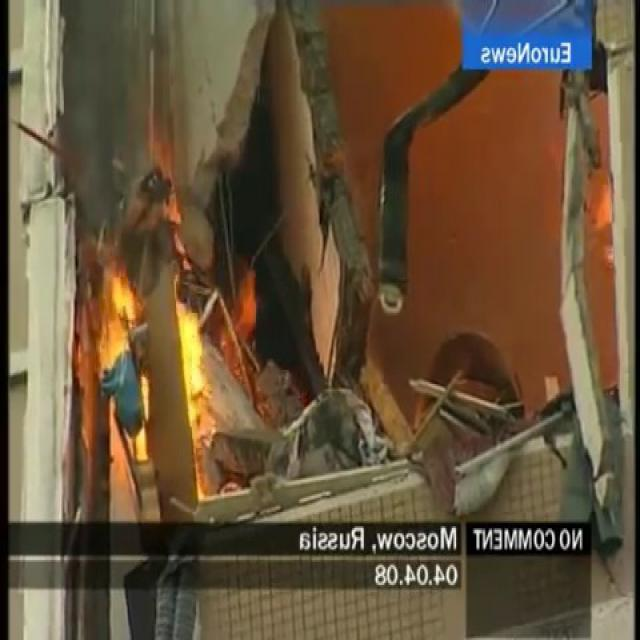fire: (105, 274, 212, 450), (234, 274, 258, 350), (593, 182, 612, 238)
